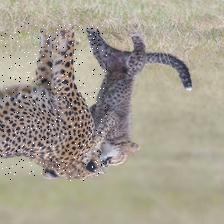Cheetha: (0, 22, 106, 180)
